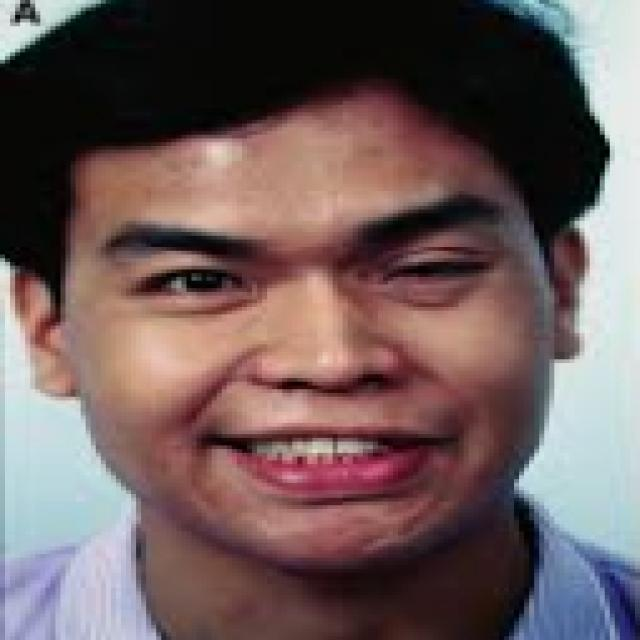stroke_face: (72, 29, 547, 562)
